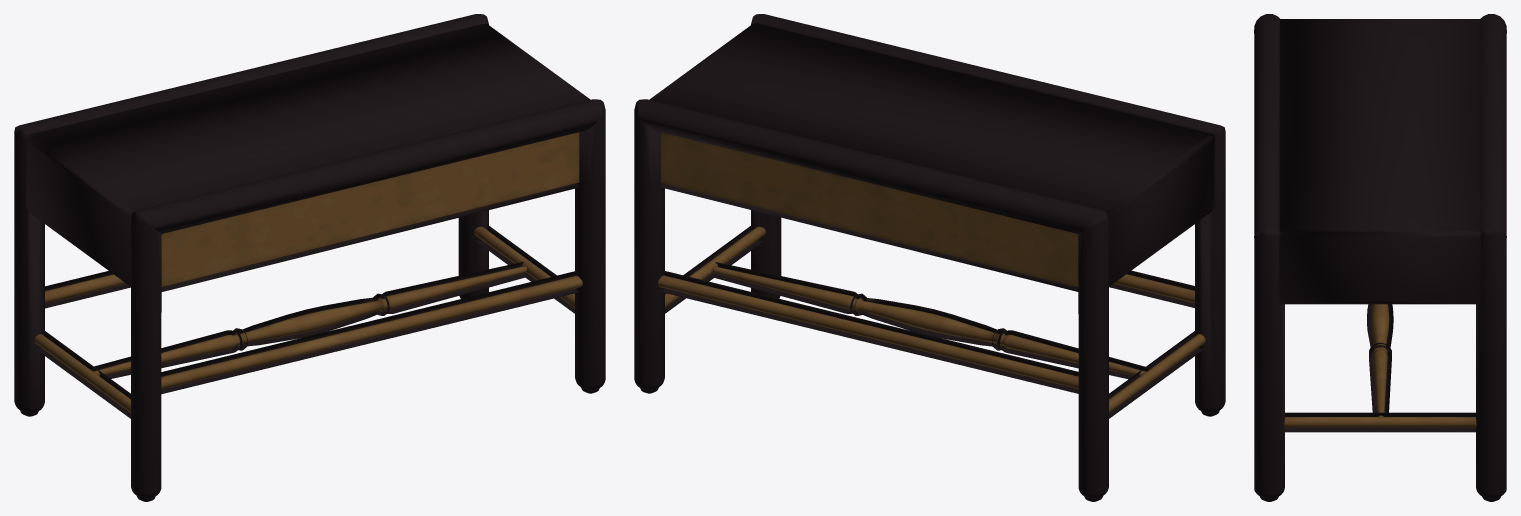
Rendered from SM_Int_SmallTable.fbx.
3 views of the same model, side by side, from view 1: azimuth 30°, elevation 25°; view 2: azimuth 150°, elevation 25°; view 3: azimuth 270°, elevation 25° (orthographic). The views are drawn at different scales.
Parts seen in each view (by area): view 1: SM_Int_SmallTable; view 2: SM_Int_SmallTable; view 3: SM_Int_SmallTable.
Part boxes in pixels (<box>): SM_Int_SmallTable: <box>14,14,605,501</box>; SM_Int_SmallTable: <box>634,14,1225,501</box>; SM_Int_SmallTable: <box>1254,14,1506,501</box>.
Size of what is drawn, in the model's own units: 0.9319 by 0.549 by 0.4559.
